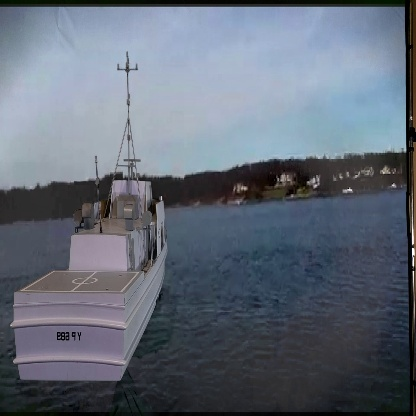YP689: (11, 52, 168, 382)
